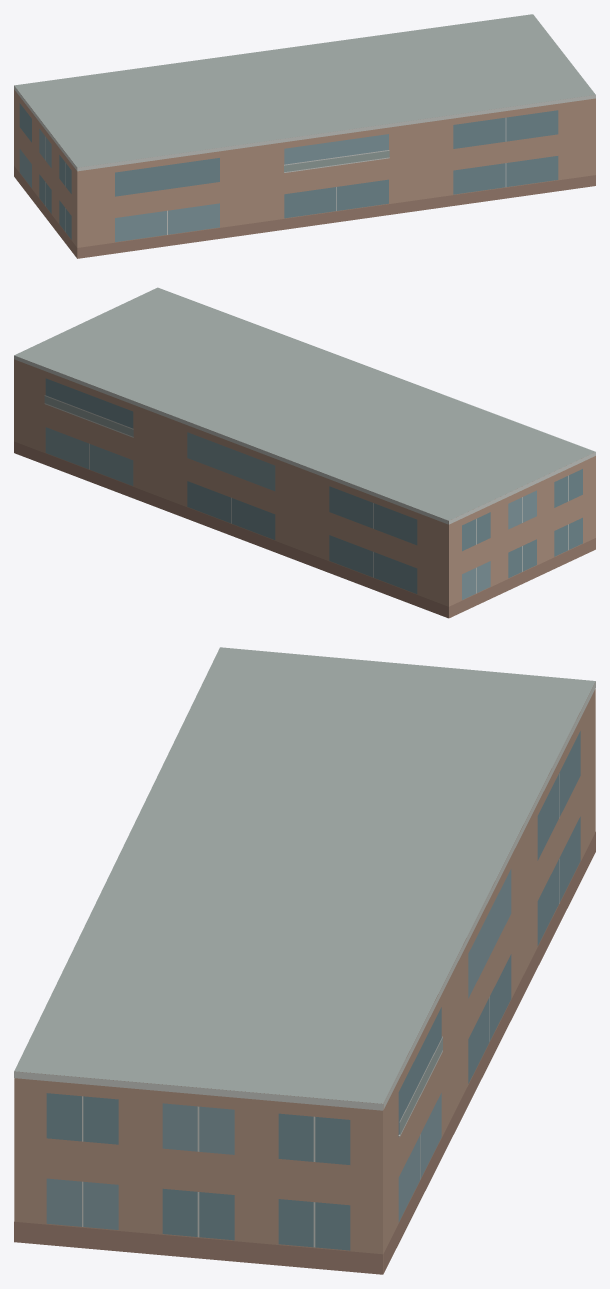
Rendered from survey-upis-32528100.glb.
3 views of the same model, one above another, from view 1: azimuth 30°, elevation 25°; view 2: azimuth 150°, elevation 25°; view 3: azimuth 270°, elevation 25° (orthographic). The views are drawn at different scales.
Parts seen in each view (by area): view 1: survey-upis-32528100.tmp; view 2: survey-upis-32528100.tmp; view 3: survey-upis-32528100.tmp.
Part boxes in pixels (x1,y1,x2,y2): survey-upis-32528100.tmp: (14, 14, 595, 258); survey-upis-32528100.tmp: (14, 287, 595, 618); survey-upis-32528100.tmp: (14, 647, 595, 1274).
Bounding box in the file's own units: 34.99 × 6.1 × 18.84.
